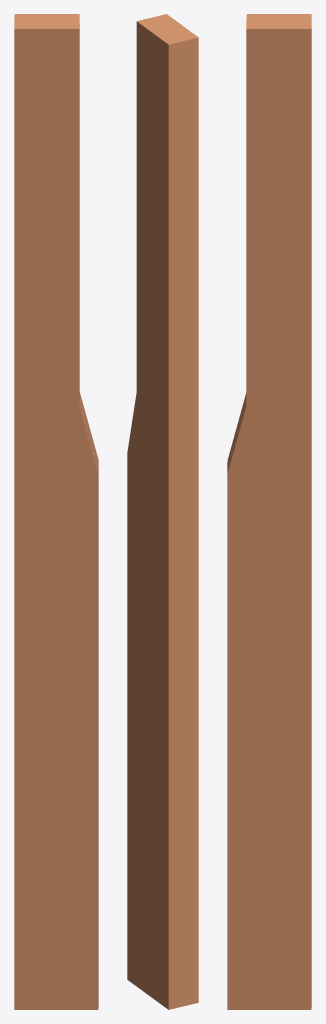
Rendered from SP_House08_Pole01.fbx.
3 renders of one model, left to right at view 1: azimuth 90°, elevation 25°; view 2: azimuth 210°, elevation 25°; view 3: azimuth 270°, elevation 25°, orthographic.
Visible parts, largest first — view 1: SP_House08_Poal01; view 2: SP_House08_Poal01; view 3: SP_House08_Poal01.
Boxes of the visible parts, x1,y1,x2,y2 form: SP_House08_Poal01: (14, 14, 98, 1009); SP_House08_Poal01: (127, 14, 198, 1009); SP_House08_Poal01: (227, 14, 311, 1009).
Bounding box in the file's own units: 0.2561 × 7.89 × 0.616.
